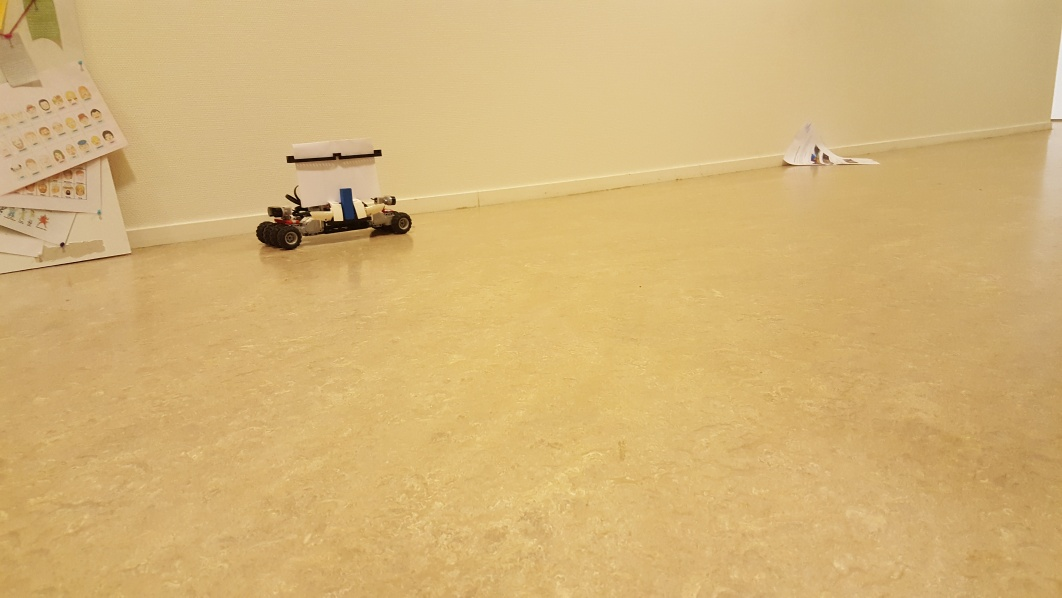beam: (338, 186, 356, 227)
